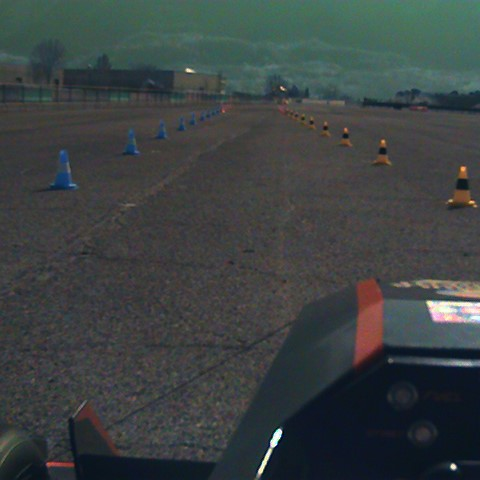cone: (51, 150, 75, 188), (124, 129, 140, 156), (157, 121, 168, 138), (178, 117, 184, 130), (190, 116, 196, 125)
